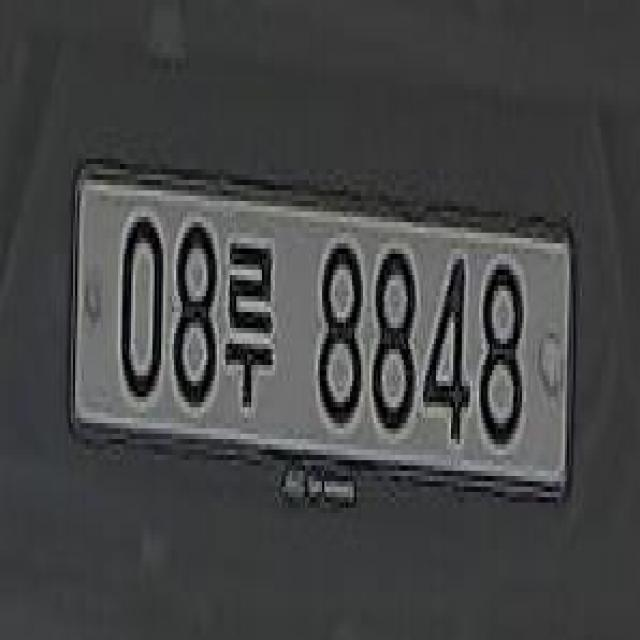illegal_plate: (72, 153, 578, 524)
